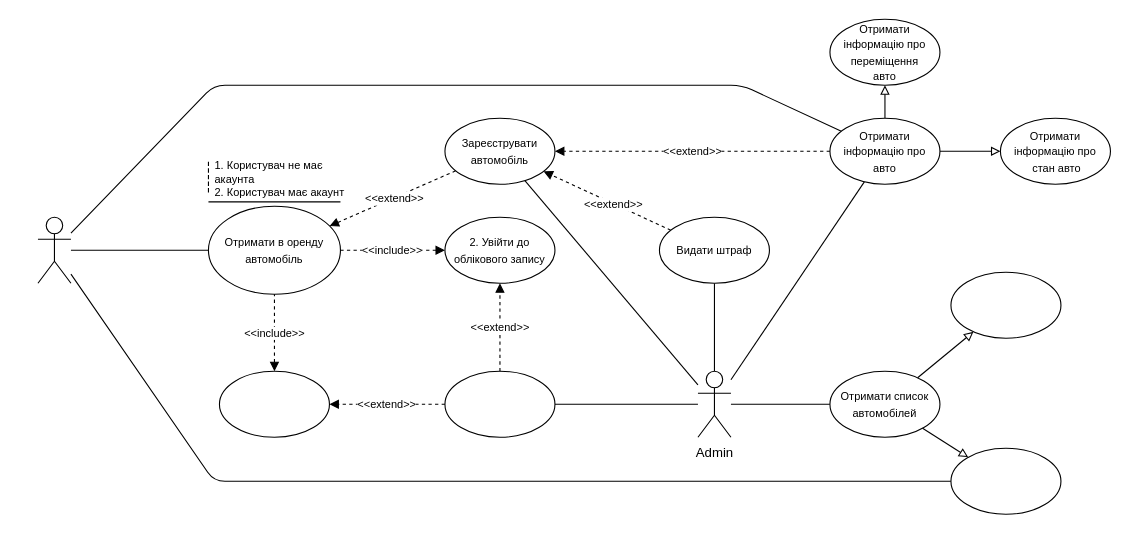
Some shapes in this 1130 by 534 pixel diagram are drawn without their labels. The box of each missing label's shape, as (x1, y1, x2, y2) in pixels:
1. Зареєструвати обліковий запис: (218, 370, 329, 437)
Заблокувати користувача: (444, 370, 555, 437)
Користувач: (37, 216, 71, 283)
Отримати список доступних автомобілей: (950, 447, 1061, 514)
Отримати список орендованих автомобілей: (950, 271, 1061, 338)
